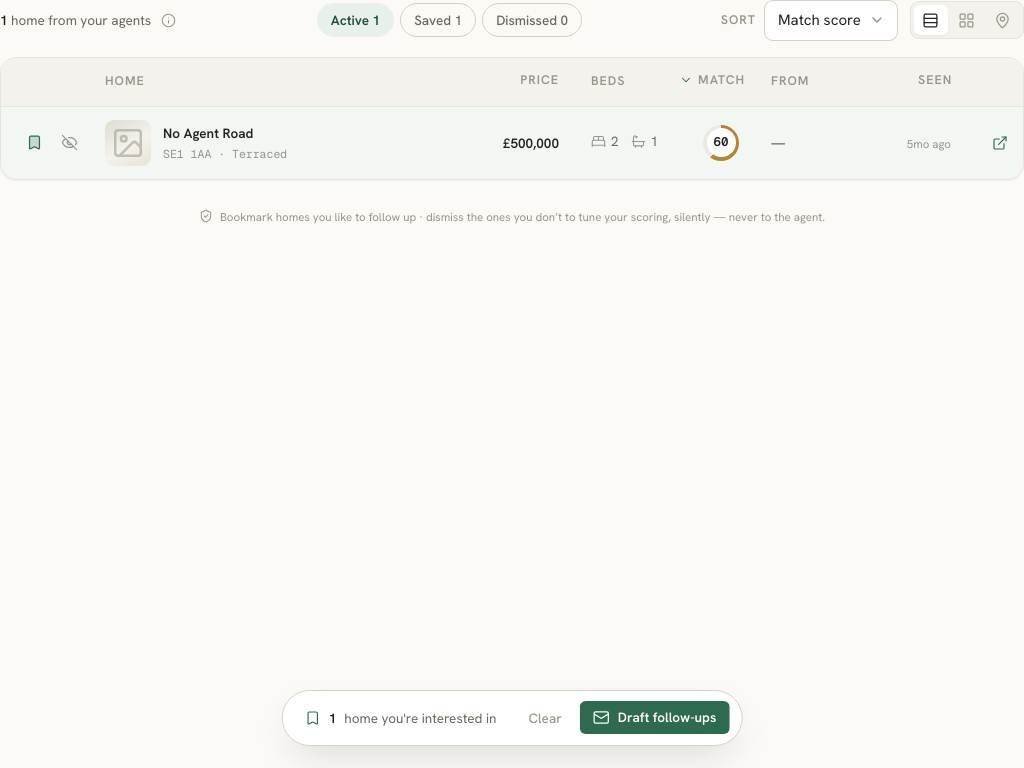
Test case: ListingsPage interest + follow-ups › falls back to 'your agent' when grouping a home with no agency
Click the button with test id "draft-followups" at (655, 718), box [580,701,729,734]
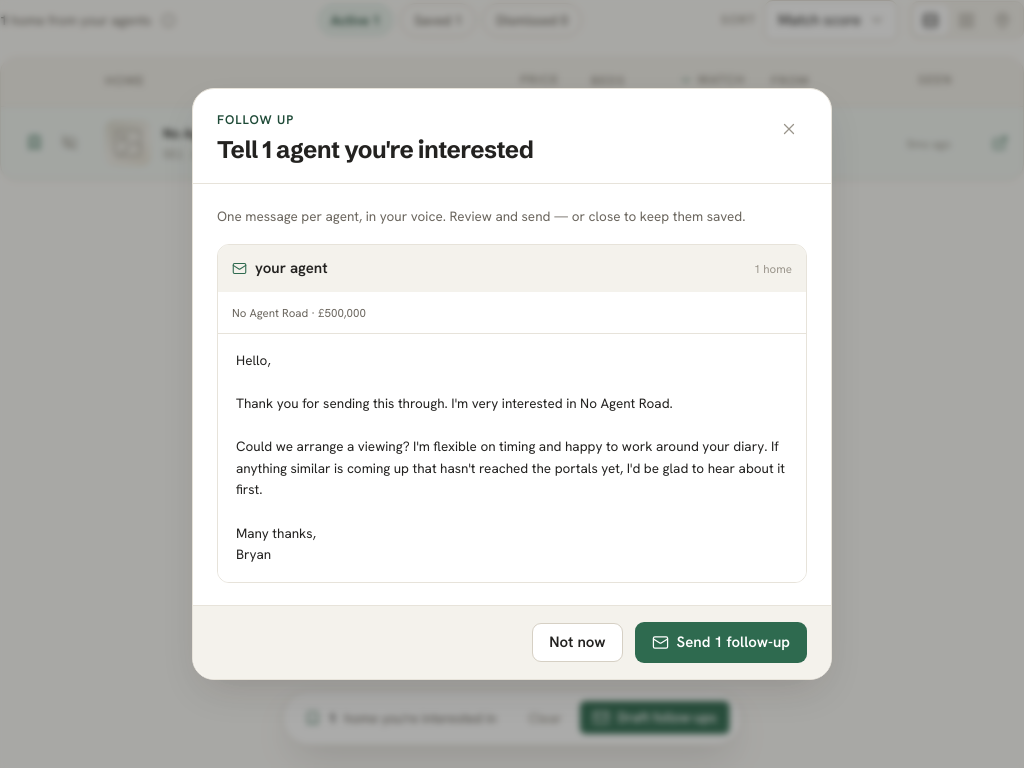
Now the text "your agent" is shown, box [232,257,328,280]
